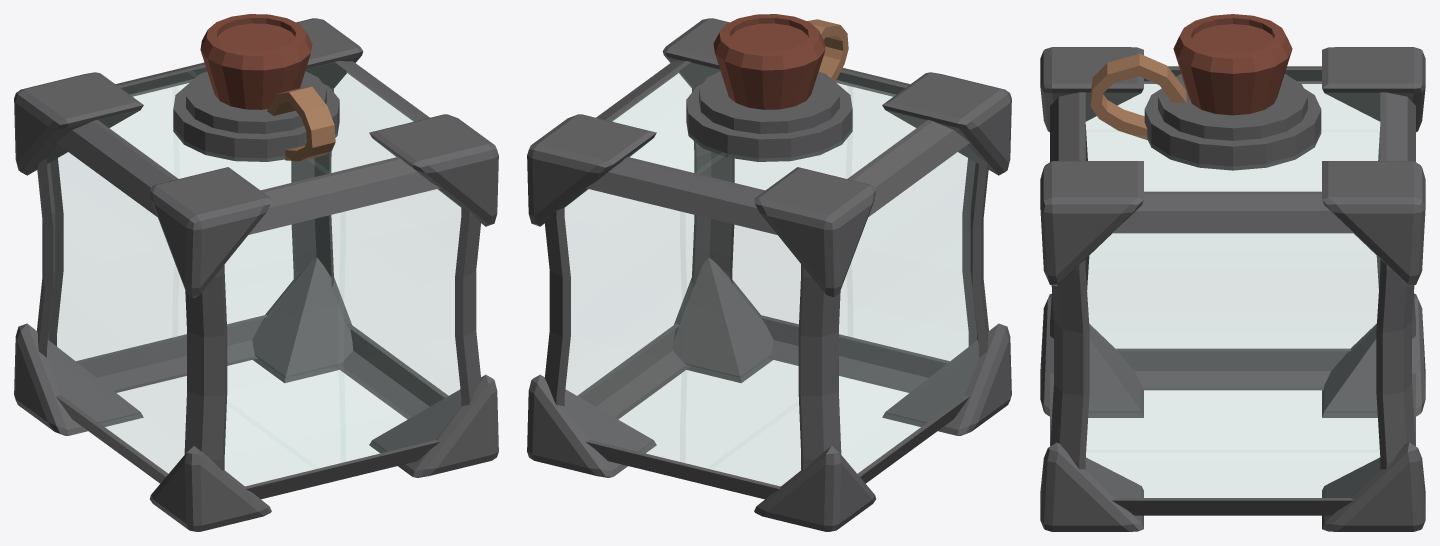
The model's file is elem_crate.fbx.
3 renders of one model, left to right at view 1: azimuth 30°, elevation 25°; view 2: azimuth 150°, elevation 25°; view 3: azimuth 270°, elevation 25°, orthographic. The views are drawn at different scales.
Visible parts, largest first — view 1: Element Crate; view 2: Element Crate; view 3: Element Crate.
Boxes of the visible parts, left/top/right/bottom form: Element Crate: left=14, top=14, right=498, bottom=531; Element Crate: left=527, top=14, right=1011, bottom=531; Element Crate: left=1040, top=14, right=1425, bottom=531.
Bounding box in the file's own units: 201 × 246 × 204.
